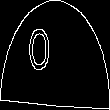O_S: (43, 28, 67, 82)
